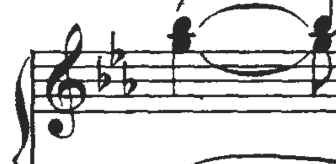flat: (106, 24, 127, 74), (118, 60, 139, 103), (93, 55, 113, 96)
treble_clef: (40, 17, 91, 146)
